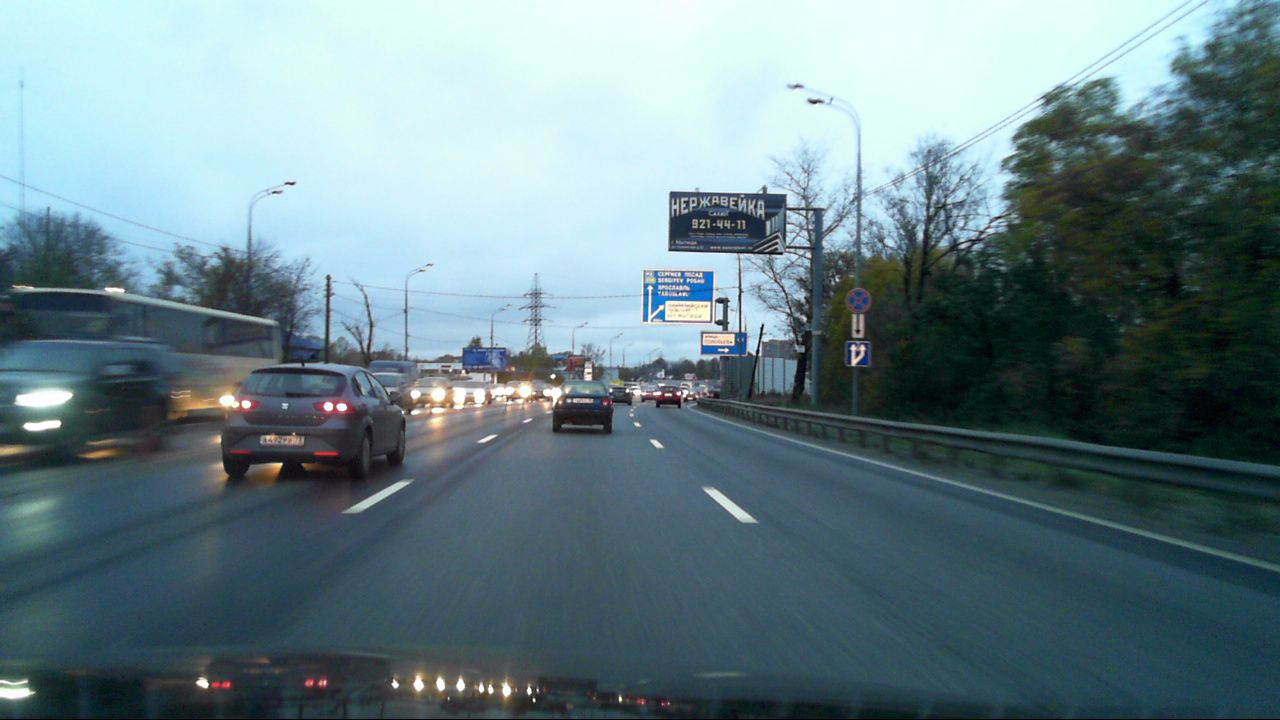No Parking: (845, 288, 870, 313)
